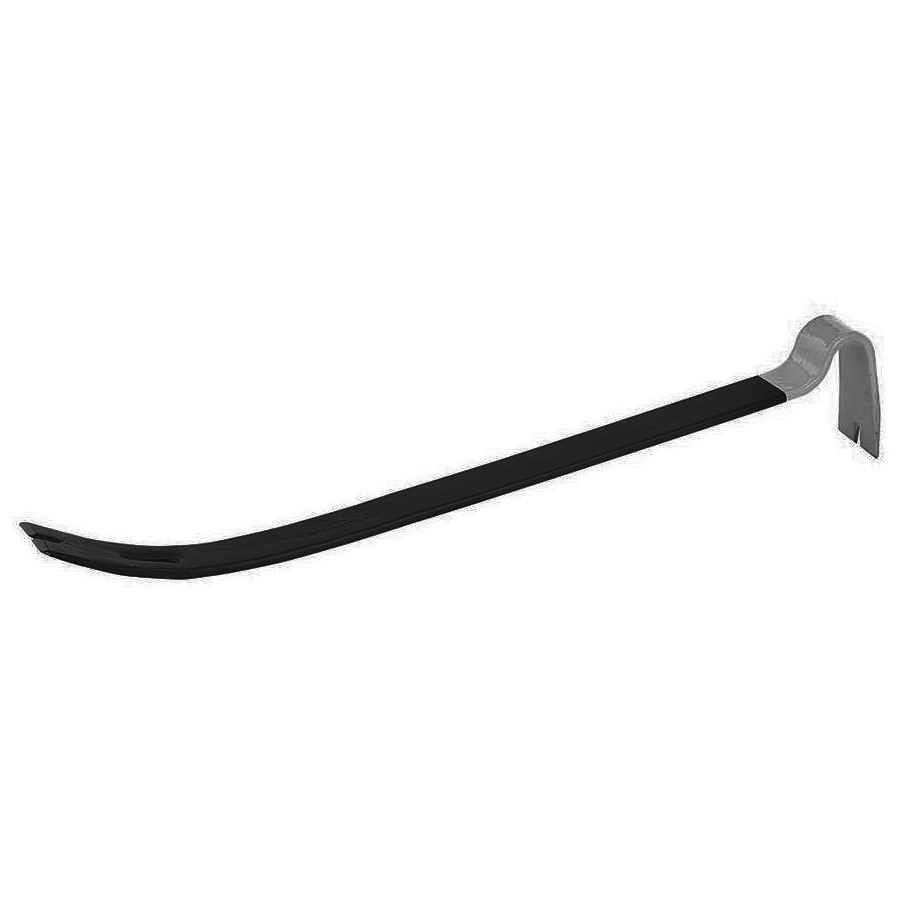crowbar: (256, 8, 598, 883)
